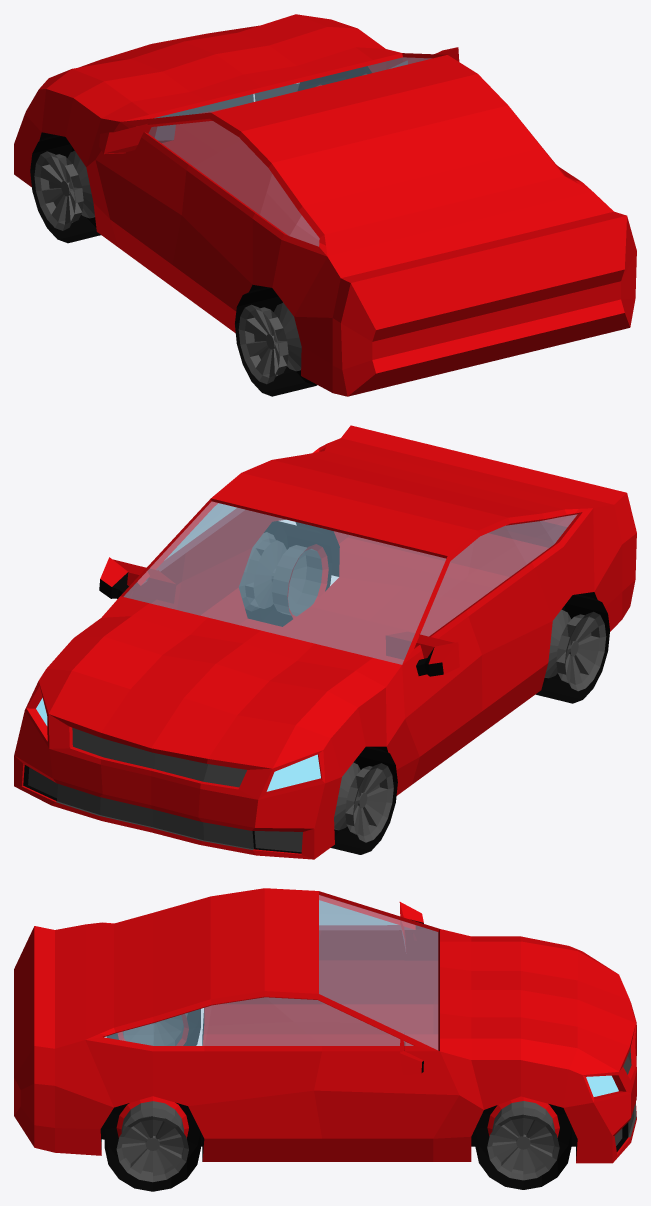
File: car1.glb
3 renders of one model, top to bottom at view 1: azimuth 30°, elevation 25°; view 2: azimuth 150°, elevation 25°; view 3: azimuth 270°, elevation 25°, orthographic. The views are drawn at different scales.
Parts seen in each view (by area): view 1: Body, Wheel_BL, Wheel_FL, Wheel_FR; view 2: Body, Wheel_BR, Wheel_BL, Wheel_FL; view 3: Body, Wheel_BR, Wheel_FR, Wheel_BL.
Boxes of the visible parts, x1,y1,x2,y2 form: Body: (14, 14, 636, 396); Wheel_BL: (235, 287, 317, 396); Wheel_FL: (30, 135, 100, 243); Wheel_FR: (305, 66, 371, 88); Body: (14, 425, 636, 859); Wheel_BR: (239, 521, 332, 626); Wheel_BL: (535, 594, 609, 703); Wheel_FL: (330, 746, 397, 854); Body: (14, 888, 636, 1163); Wheel_BR: (104, 1096, 200, 1191); Wheel_FR: (475, 1096, 571, 1189); Wheel_BL: (107, 1009, 200, 1045).
Bounding box in the file's own units: 2.52 × 1.39 × 4.3.
